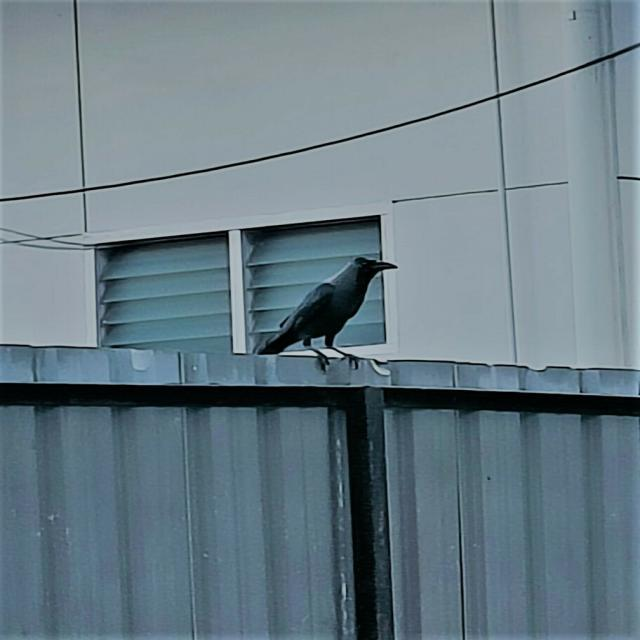bird: (252, 254, 402, 376)
